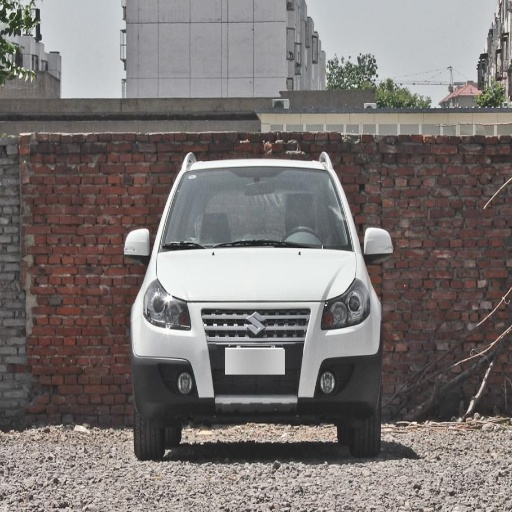front_bumper: (139, 300, 381, 421)
front_right_light: (139, 282, 190, 329)
hood: (156, 251, 356, 300)
